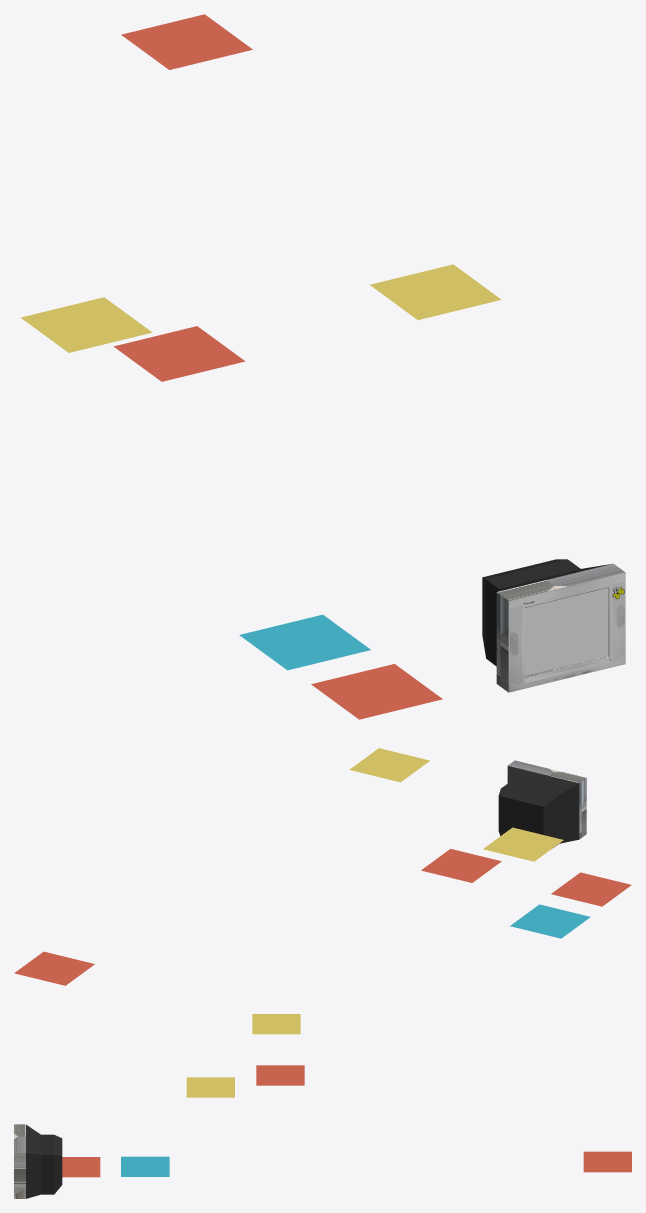
The picture shows the model from 3 angles, top to bottom: view 1: azimuth 30°, elevation 25°; view 2: azimuth 150°, elevation 25°; view 3: azimuth 270°, elevation 25°; orthographic projection. The views are drawn at different scales.
Parts seen in each view (by area): view 1: TVMesh, ScreenMesh, Plane.003, Plane, Plane.001, Plane.002, Plane.005, Plane.004; view 2: TVMesh, Plane.004, Plane.003, Plane.001, Plane.005, Plane.002, Plane; view 3: TVMesh, Plane.003, Plane, Plane.001, Plane.002, Plane.005, Plane.004.
Part boxes in pixels (bbox=[...]): TVMesh: bbox=[482, 559, 625, 692]; ScreenMesh: bbox=[525, 588, 607, 675]; Plane.003: bbox=[121, 14, 252, 69]; Plane: bbox=[21, 297, 152, 352]; Plane.001: bbox=[239, 614, 370, 670]; Plane.002: bbox=[113, 326, 245, 381]; Plane.005: bbox=[370, 264, 501, 319]; Plane.004: bbox=[311, 664, 442, 719]; TVMesh: bbox=[498, 760, 586, 847]; Plane.004: bbox=[551, 872, 631, 906]; Plane.003: bbox=[14, 951, 94, 985]; Plane.001: bbox=[510, 904, 590, 938]; Plane.005: bbox=[349, 748, 429, 782]; Plane.002: bbox=[421, 849, 501, 882]; Plane: bbox=[483, 827, 563, 861]; TVMesh: bbox=[14, 1124, 62, 1198]; Plane.003: bbox=[583, 1151, 631, 1172]; Plane: bbox=[252, 1014, 300, 1034]; Plane.001: bbox=[121, 1156, 169, 1176]; Plane.002: bbox=[256, 1065, 304, 1085]; Plane.005: bbox=[186, 1077, 234, 1097]; Plane.004: bbox=[62, 1157, 100, 1177].
Bounding box in the file's own units: 12.3 × 5.8 × 25.53.
9 materials, 1 textured.
